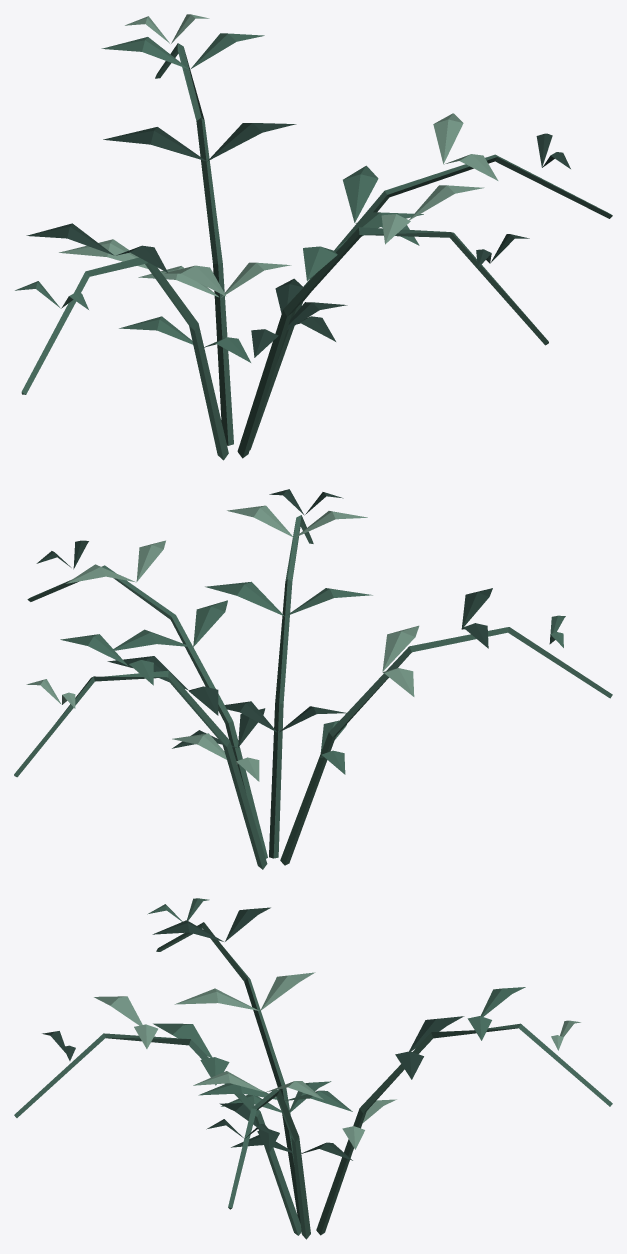
File: ALPINE_FERN.shadow.glb
The picture shows the model from 3 angles, top to bottom: view 1: azimuth 30°, elevation 25°; view 2: azimuth 150°, elevation 25°; view 3: azimuth 270°, elevation 25°; orthographic projection. The views are drawn at different scales.
Visible parts, largest first — view 1: ALPINE_FERN; view 2: ALPINE_FERN; view 3: ALPINE_FERN.
Boxes of the visible parts, <box> form: ALPINE_FERN: <box>15,14,612,460</box>; ALPINE_FERN: <box>14,489,612,869</box>; ALPINE_FERN: <box>14,898,612,1239</box>.
Size of the model in its own units: 0.5018 by 0.2396 by 0.5054.
Materials: 1 (1 with a texture image).
